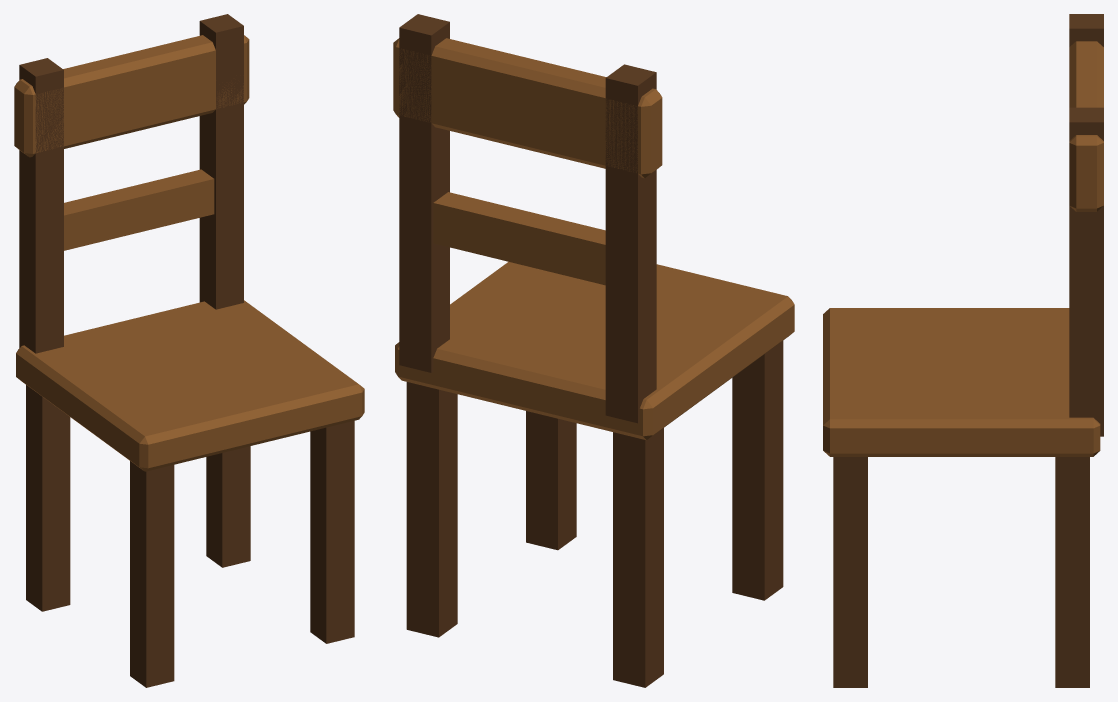
The model's file is PR_Furniture_Sandalye.fbx.
3 renders of one model, left to right at view 1: azimuth 30°, elevation 25°; view 2: azimuth 150°, elevation 25°; view 3: azimuth 270°, elevation 25°, orthographic. The views are drawn at different scales.
Parts seen in each view (by area): view 1: PR_Furniture_Sandalye; view 2: PR_Furniture_Sandalye; view 3: PR_Furniture_Sandalye.
Boxes of the visible parts, left/top/right/bottom form: PR_Furniture_Sandalye: left=14, top=14, right=364, bottom=687; PR_Furniture_Sandalye: left=393, top=14, right=794, bottom=687; PR_Furniture_Sandalye: left=823, top=14, right=1103, bottom=687.
Size of the model in its own units: 0.4 by 0.9 by 0.405.
Materials: 1 (1 with a texture image).
